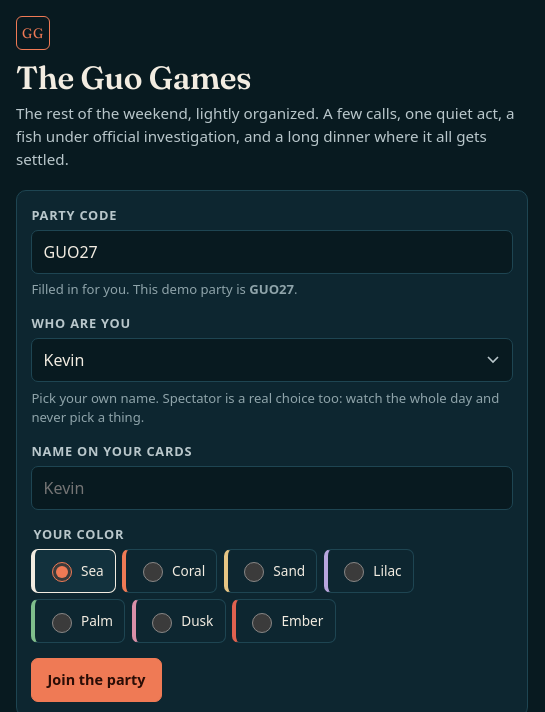
Test case: explains a wrong party code instead of failing silently
The width and height of the screenshot is (545, 712).
Type "NOPE" into the field labelled "Party code" at (272, 252), box x1=31 y1=230 x2=513 y2=274
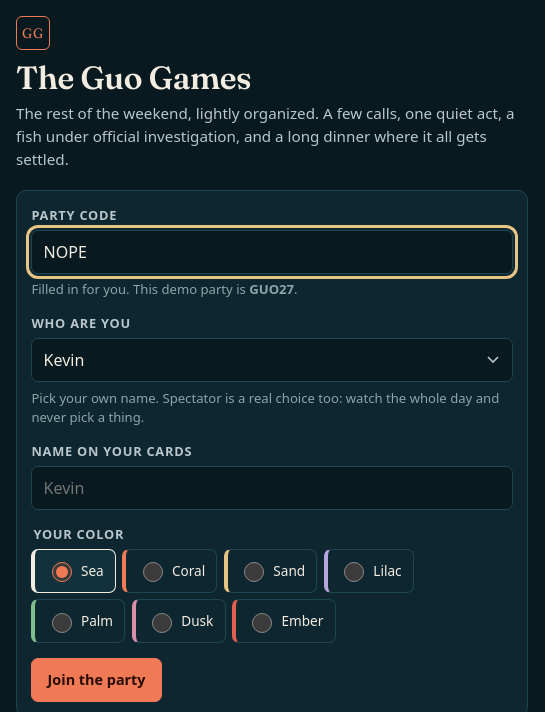
Select "Kevin" in the dropdown labelled "Who are you" at (272, 360), box x1=31 y1=338 x2=513 y2=382
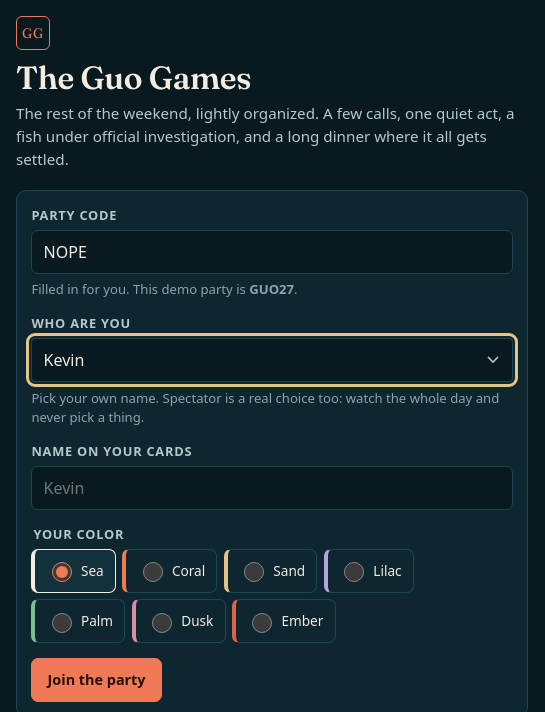
Click the button "Join the party" at (97, 680), box x1=31 y1=658 x2=162 y2=702
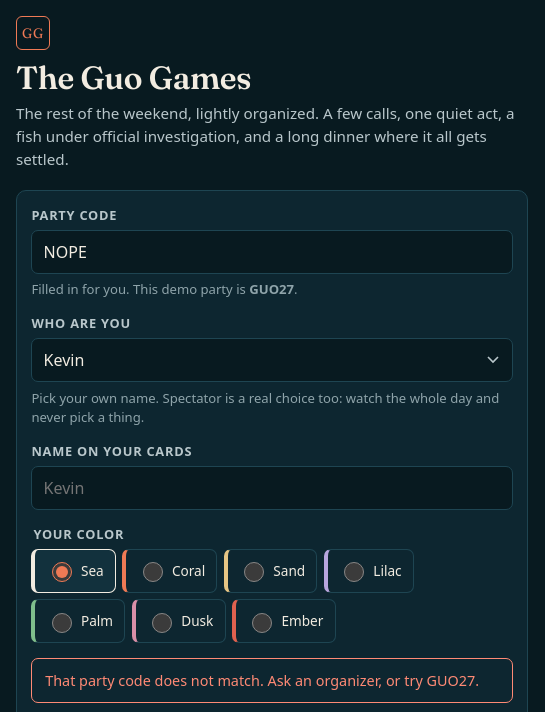
expect the message shows "party code": met, box x1=45 y1=671 x2=479 y2=690
